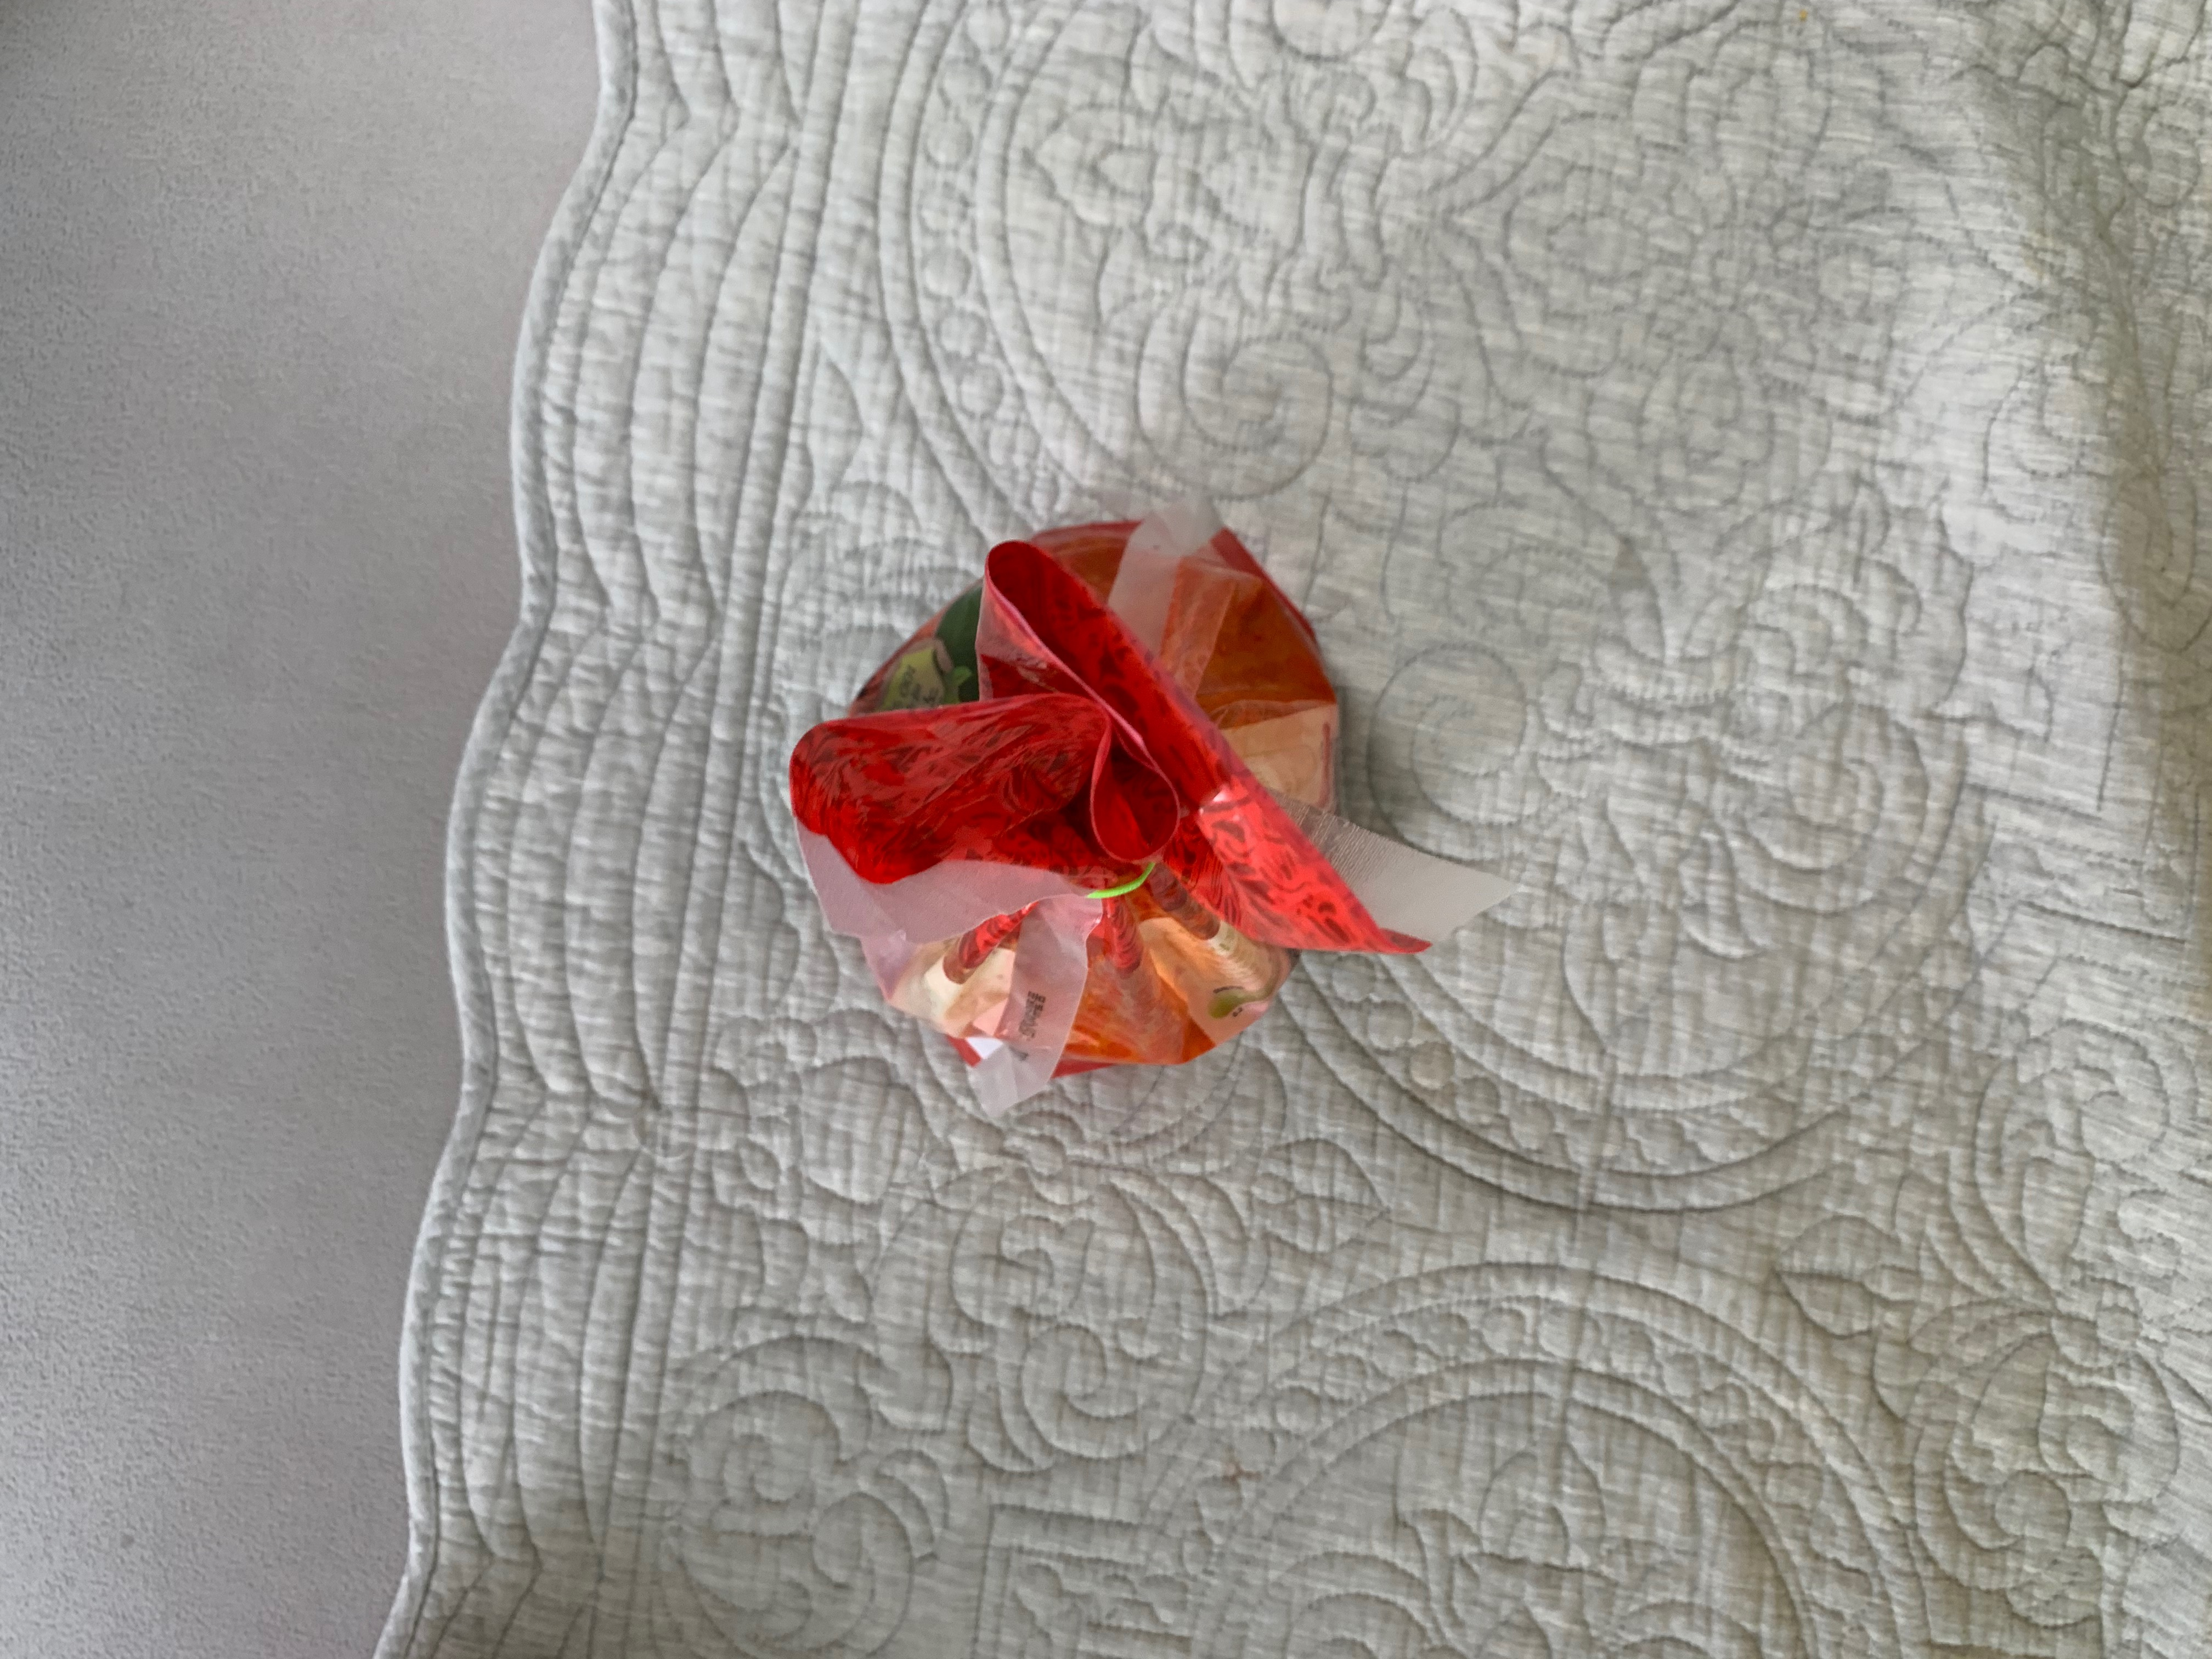kimchi: (792, 519, 1433, 1075)
